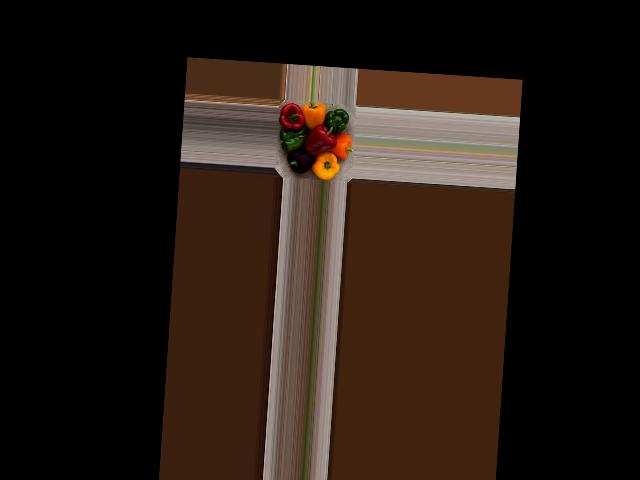bell_pepper: (279, 141, 316, 173)
